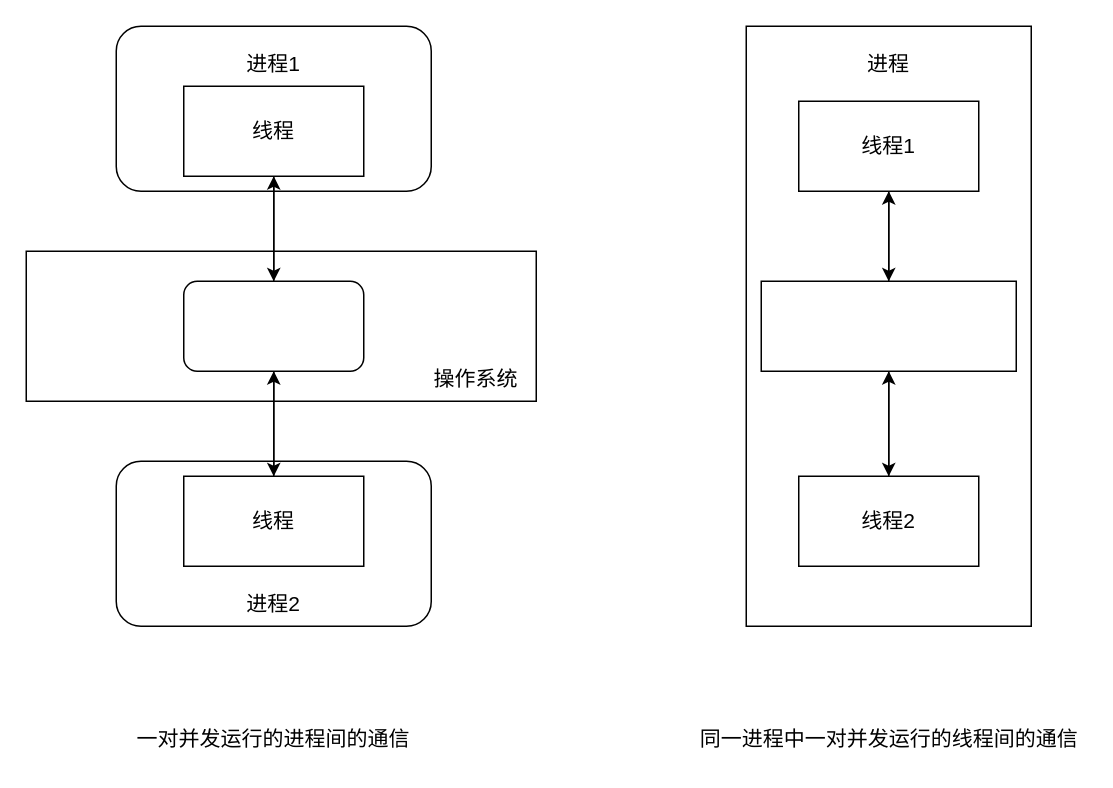
The diagram is 1113 pixels wide and 788 high, and some of its shapes have lost their labels. Here are the shapes that lost their labels. From the top down, the centre of each, then its label:
At point (273, 325): "进程间通信".
At point (888, 325): "共享内存".
